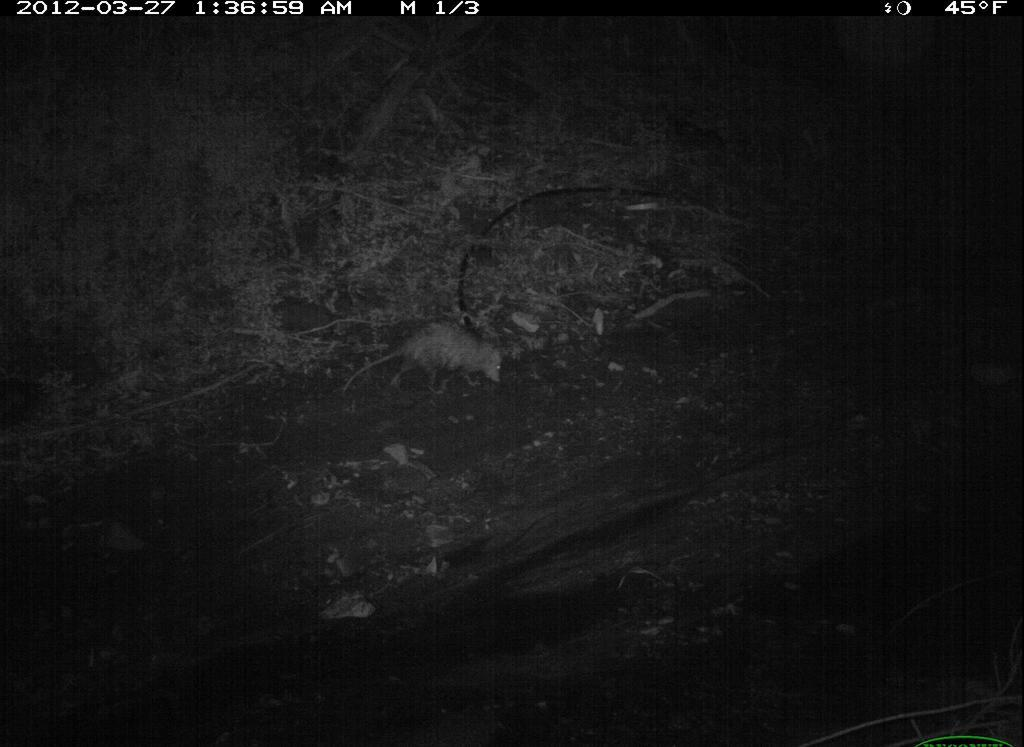opossum: (338, 322, 524, 404)
